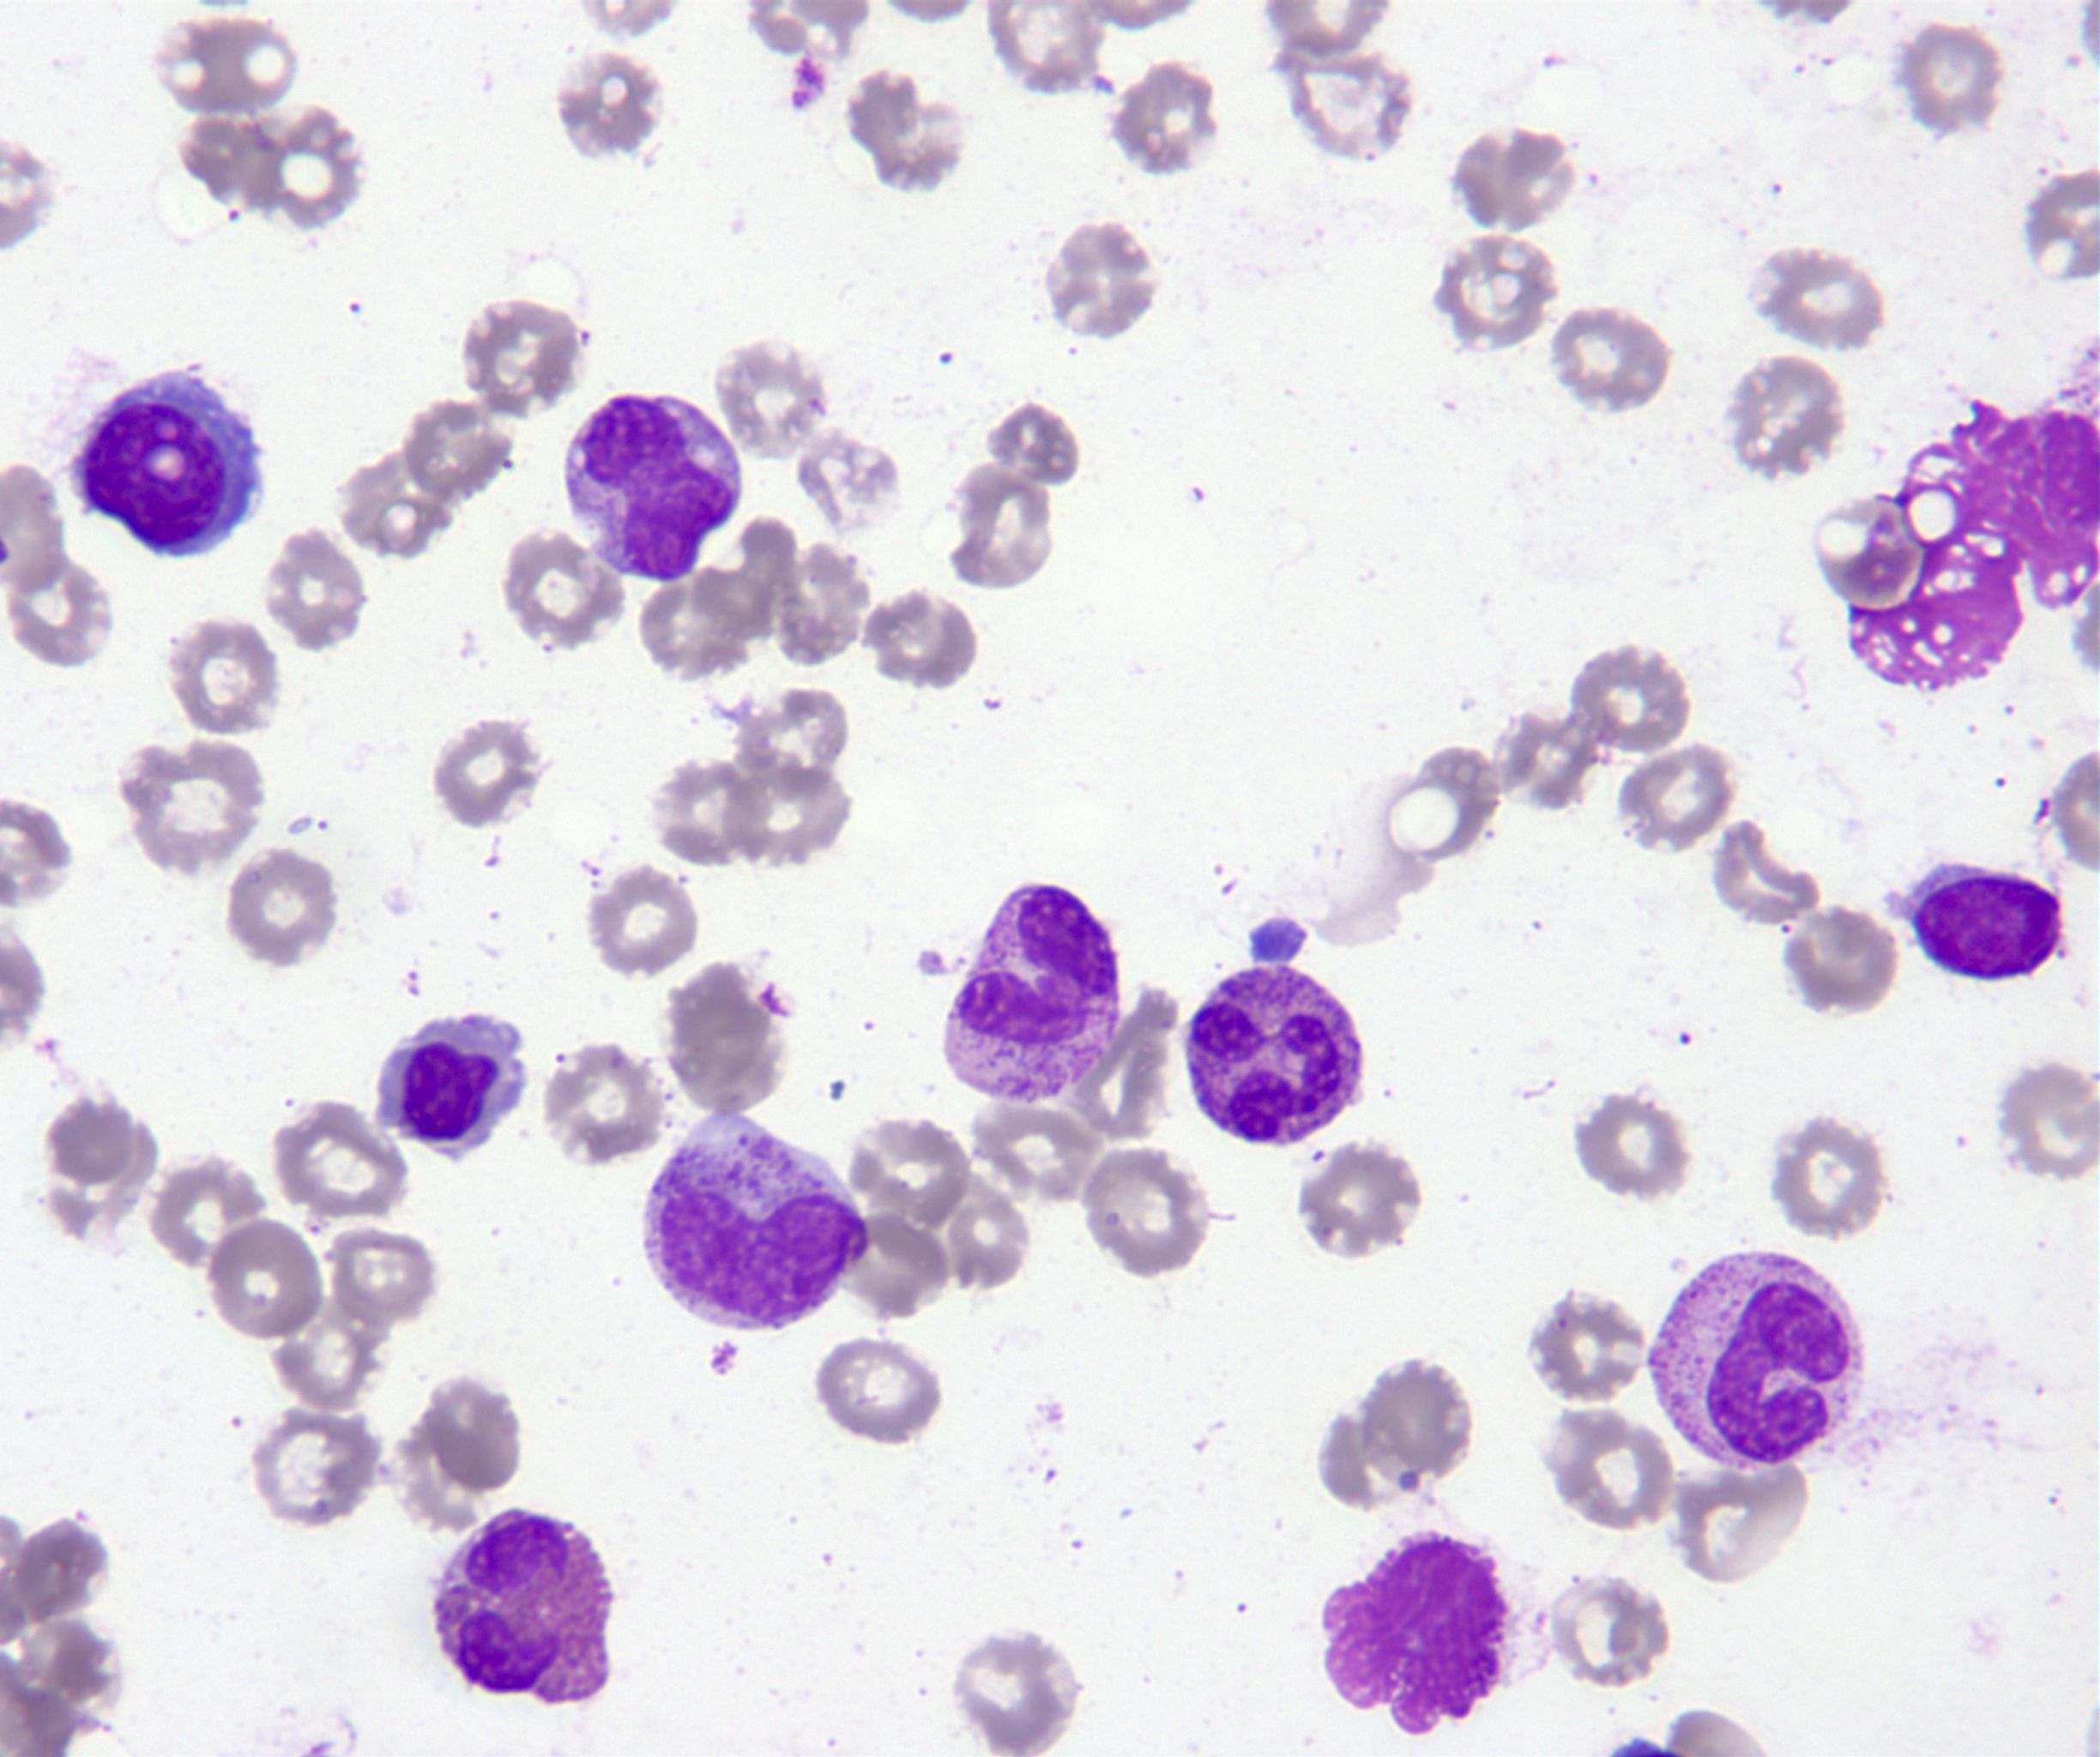23: (72, 363, 267, 567)
24: (365, 1003, 530, 1169)
32: (1885, 855, 2067, 988)
4: (637, 1110, 874, 1342), (558, 387, 745, 593)
5: (1640, 1248, 1872, 1483), (938, 874, 1125, 1113)
6: (1183, 958, 1367, 1152)
E4: (424, 1497, 621, 1715)
x: (1312, 1525, 1512, 1740)
